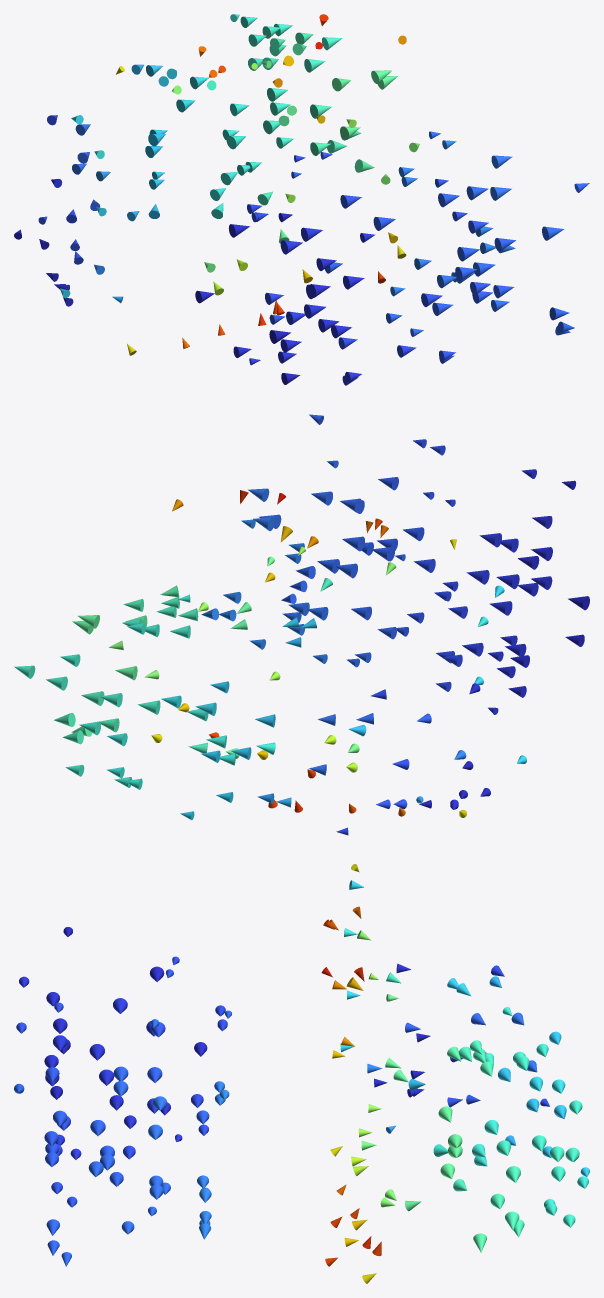
The model's file is LineasCorrienteN2-H2O_mh2-1.38_V-0.8.glb.
3 views of the same model, one above another, from view 1: azimuth 30°, elevation 25°; view 2: azimuth 150°, elevation 25°; view 3: azimuth 270°, elevation 25° (orthographic). The views are drawn at different scales.
Size of the model in its own units: 0.000973 by 0.000711 by 0.0012.
2 materials, 2 textured.
